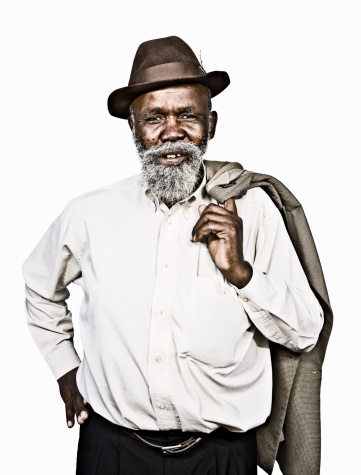em pe: (21, 46, 352, 447)
